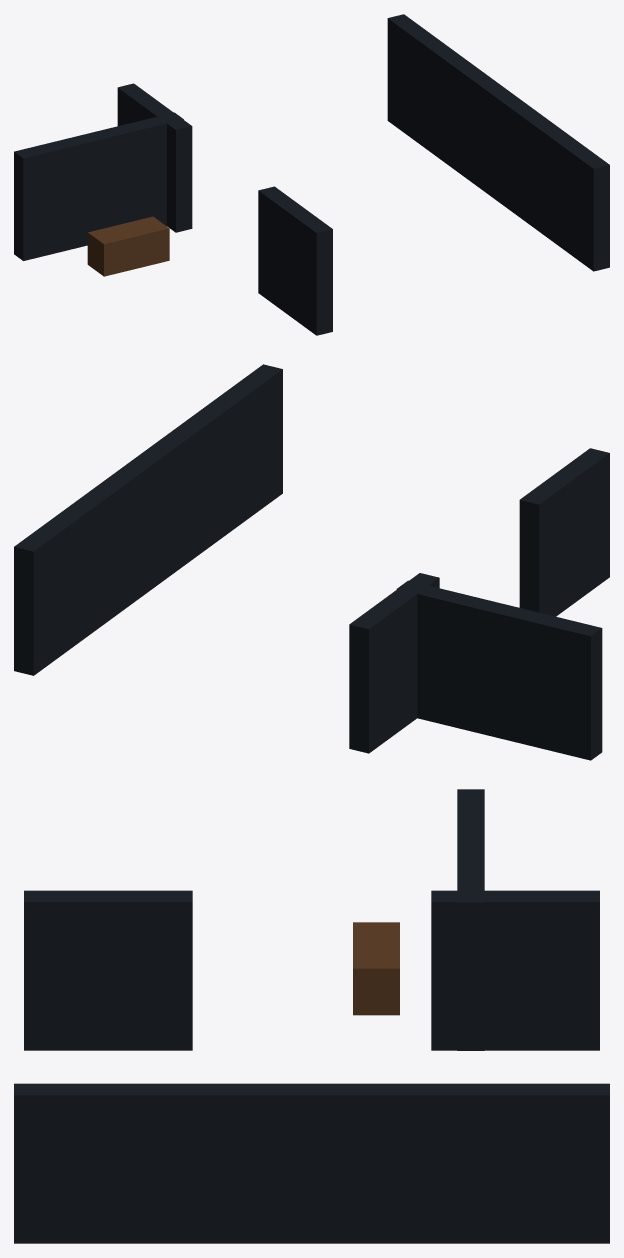
Rendered from module.hallway_side_room_left.glb.
3 views of the same model, one above another, from view 1: azimuth 30°, elevation 25°; view 2: azimuth 150°, elevation 25°; view 3: azimuth 270°, elevation 25° (orthographic). The views are drawn at different scales.
Visible parts, largest first — view 1: right_hall_wall, subroom_back_wall, left_hall_near, left_hall_far, subroom_cover; view 2: right_hall_wall, subroom_back_wall, left_hall_near, left_hall_far; view 3: right_hall_wall, left_hall_near, left_hall_far, subroom_back_wall, subroom_cover.
Boxes of the visible parts, left/top/right/bottom form: right_hall_wall: left=387, top=14, right=609, bottom=271; subroom_back_wall: left=14, top=112, right=183, bottom=260; left_hall_near: left=258, top=186, right=332, bottom=335; left_hall_far: left=117, top=83, right=192, bottom=232; subroom_cover: left=87, top=216, right=169, bottom=276; right_hall_wall: left=14, top=364, right=282, bottom=675; subroom_back_wall: left=396, top=580, right=602, bottom=760; left_hall_near: left=519, top=448, right=609, bottom=616; left_hall_far: left=349, top=573, right=439, bottom=753; right_hall_wall: left=14, top=1083, right=609, bottom=1243; left_hall_near: left=24, top=890, right=192, bottom=1050; left_hall_far: left=431, top=890, right=599, bottom=1050; subroom_back_wall: left=457, top=789, right=484, bottom=1050; subroom_cover: left=353, top=922, right=399, bottom=1015.
Size of the model in its own units: 14.58 by 3.3 by 12.
